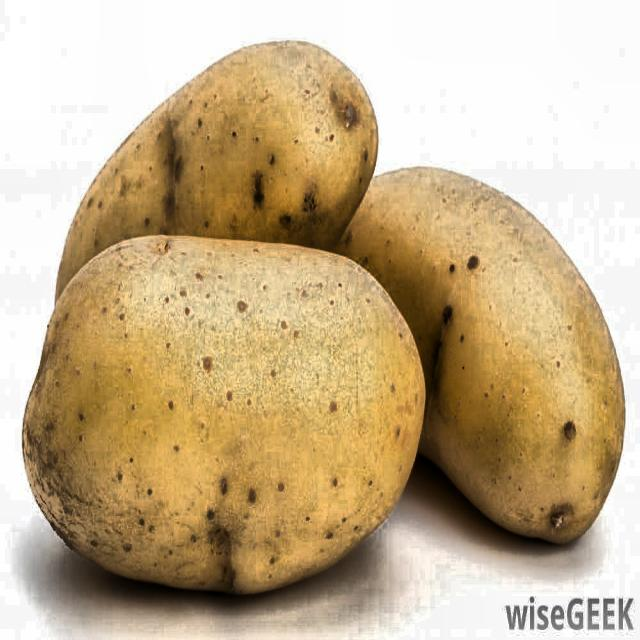potato: (32, 16, 628, 594)
